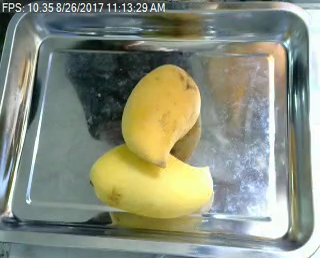Mango: (84, 141, 214, 220), (119, 61, 203, 171)
